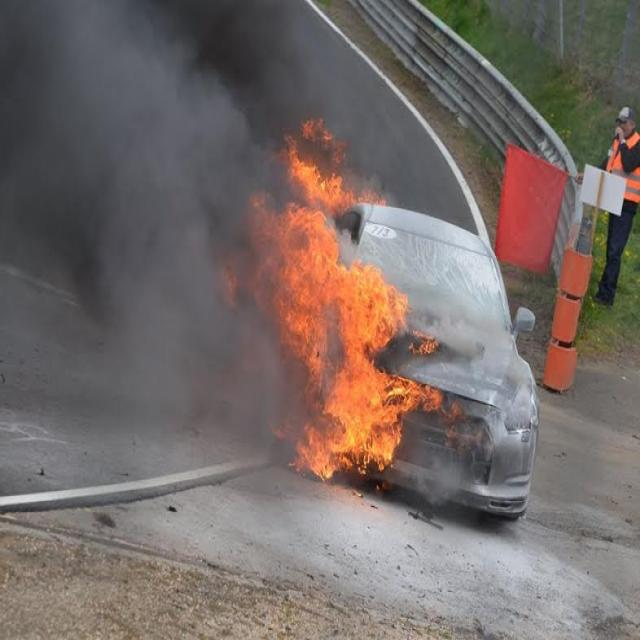fire: (307, 261, 404, 484)
smoke: (24, 22, 248, 414), (289, 150, 345, 256)
